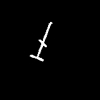double_crochet: (30, 22, 51, 60)
